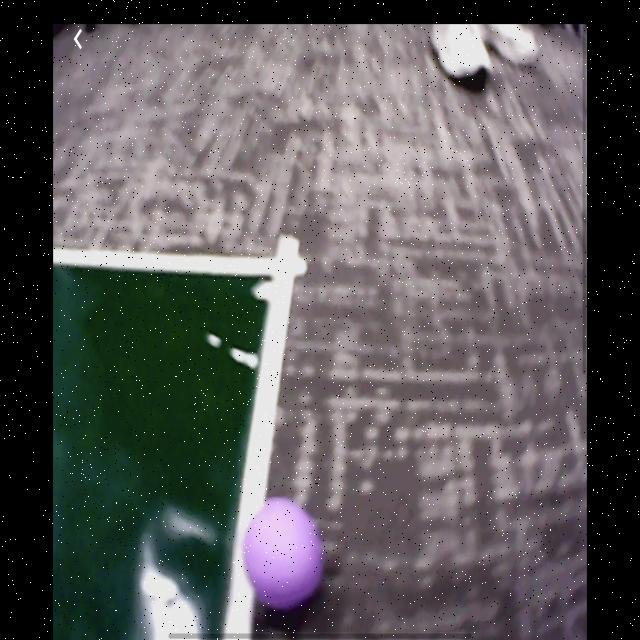ball: (242, 495, 326, 613)
